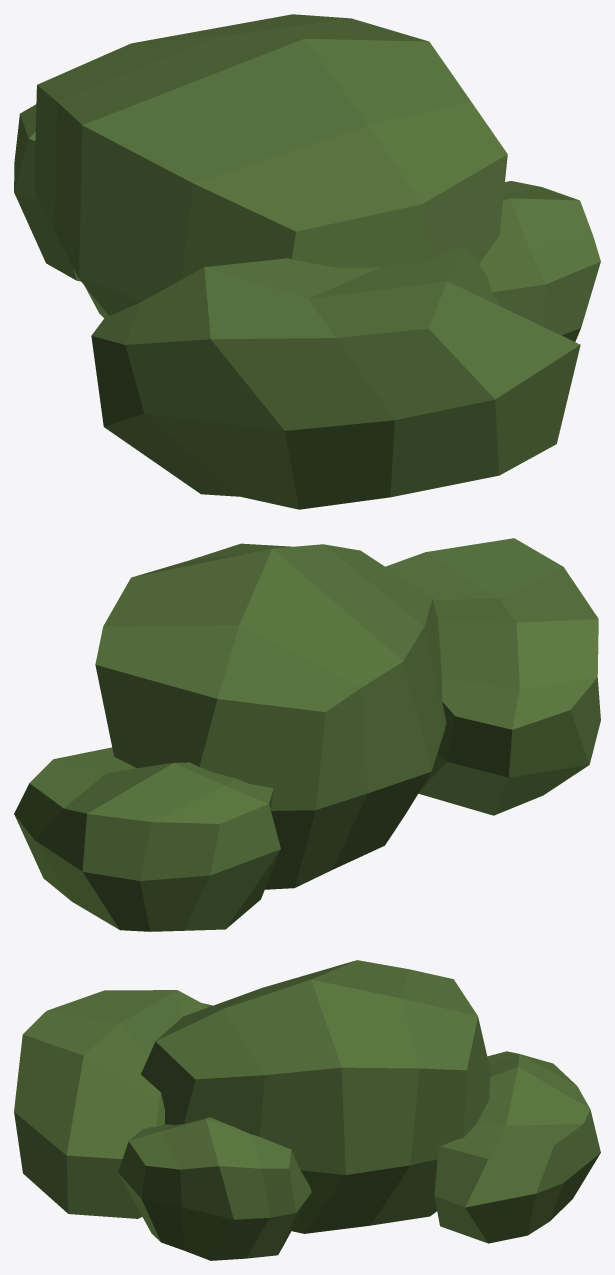
File: bushMT.glb
3 renders of one model, top to bottom at view 1: azimuth 30°, elevation 25°; view 2: azimuth 150°, elevation 25°; view 3: azimuth 270°, elevation 25°, orthographic. The views are drawn at different scales.
Visible parts, largest first — view 1: Cube.001; view 2: Cube.001; view 3: Cube.001.
Boxes of the visible parts, bbox=[...] form: Cube.001: bbox=[14, 14, 600, 509]; Cube.001: bbox=[14, 538, 600, 931]; Cube.001: bbox=[14, 960, 600, 1260].
Bounding box in the file's own units: 4.34 × 2.82 × 6.26.
